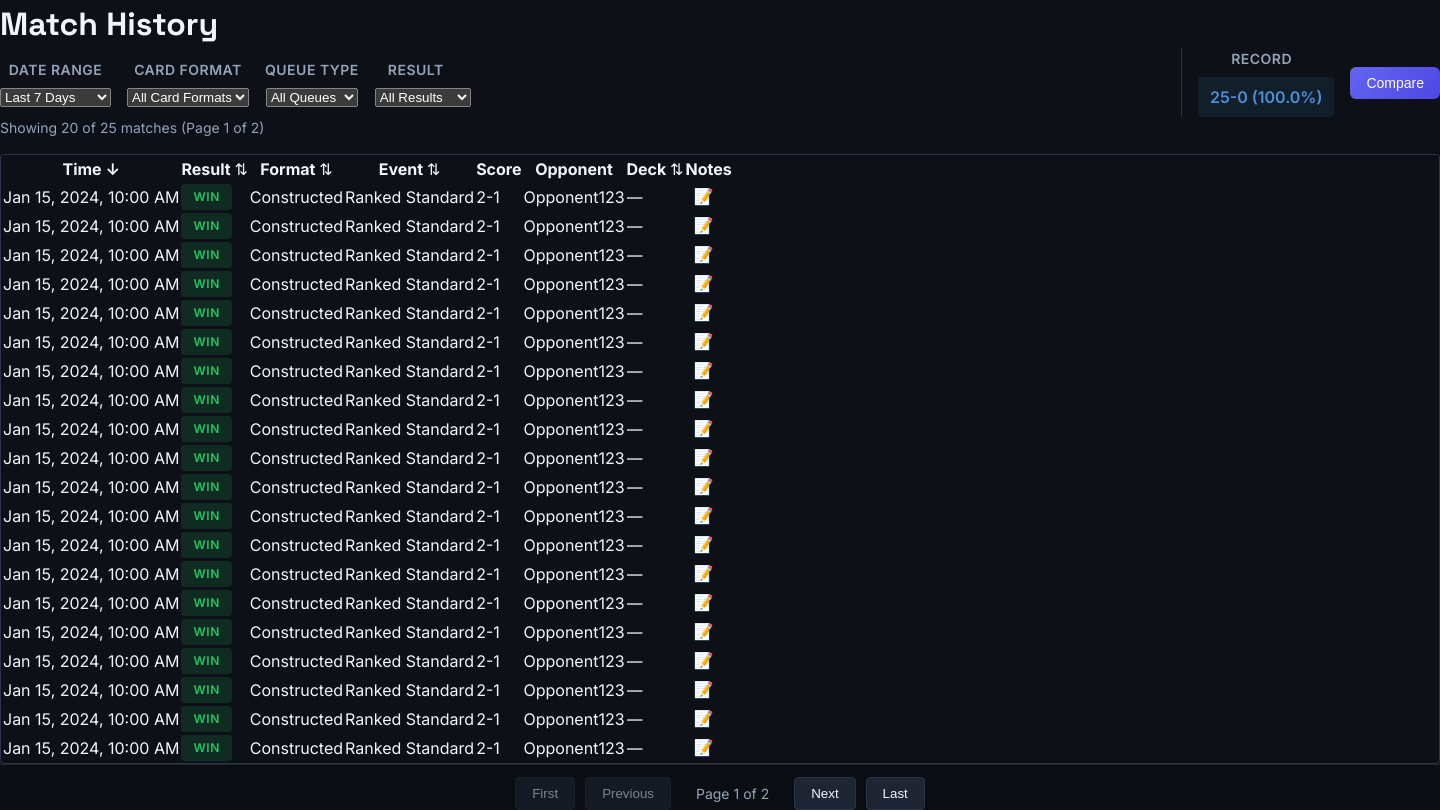
Test: MatchHistory › Sorting › should reset to page 1 when sorting changes
This screenshot has width=1440, height=810.
Expected: the text "Page 1 of 2" is shown, [696,785,769,802]
Note: Go to page 2
Click the button "Next" at (825, 794), box [794,777,856,809]
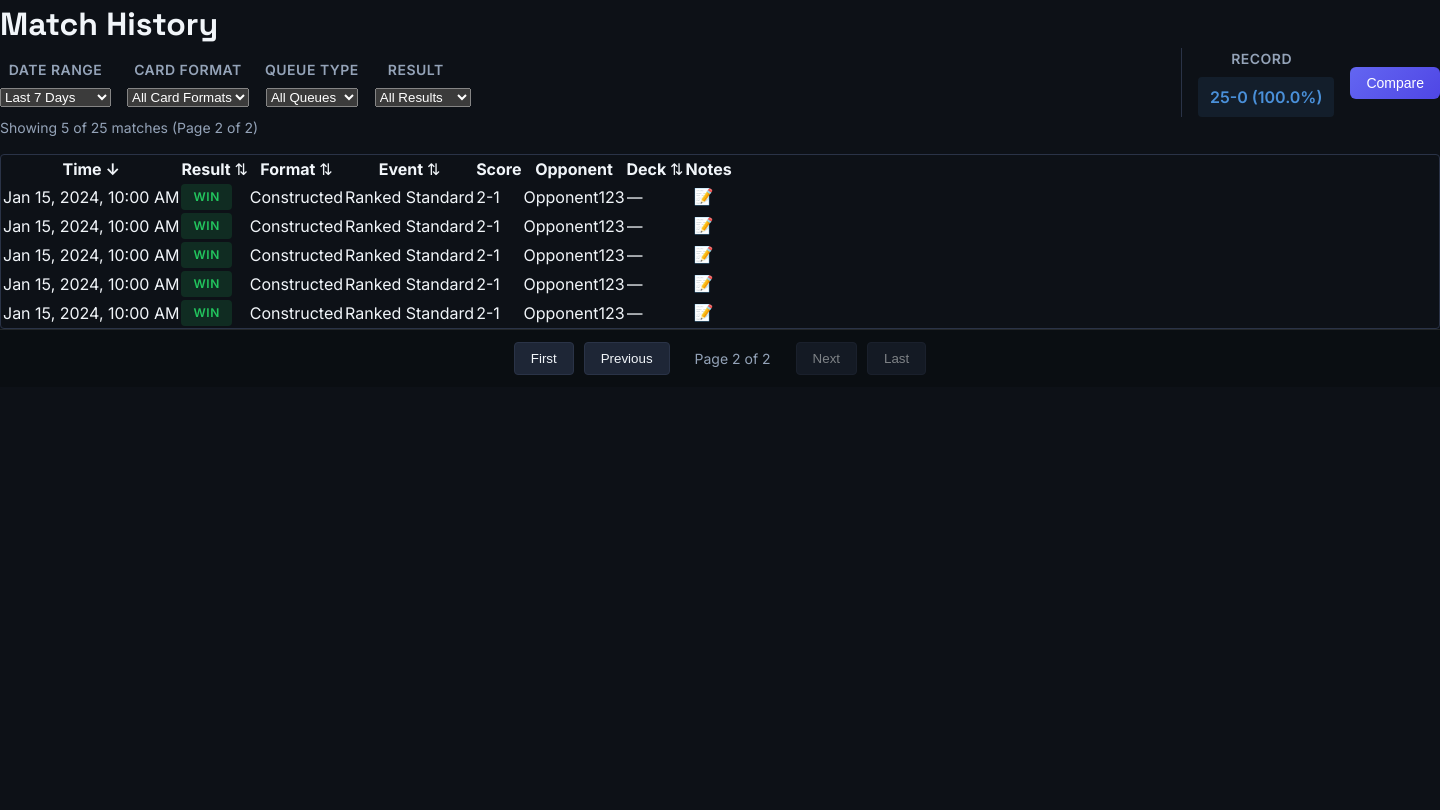
Expected: the text "Page 2 of 2" is shown, [695,350,771,367]
Note: Click sort header
Click the column heading "Result ⇅" at (215, 169), box [181,157,248,181]
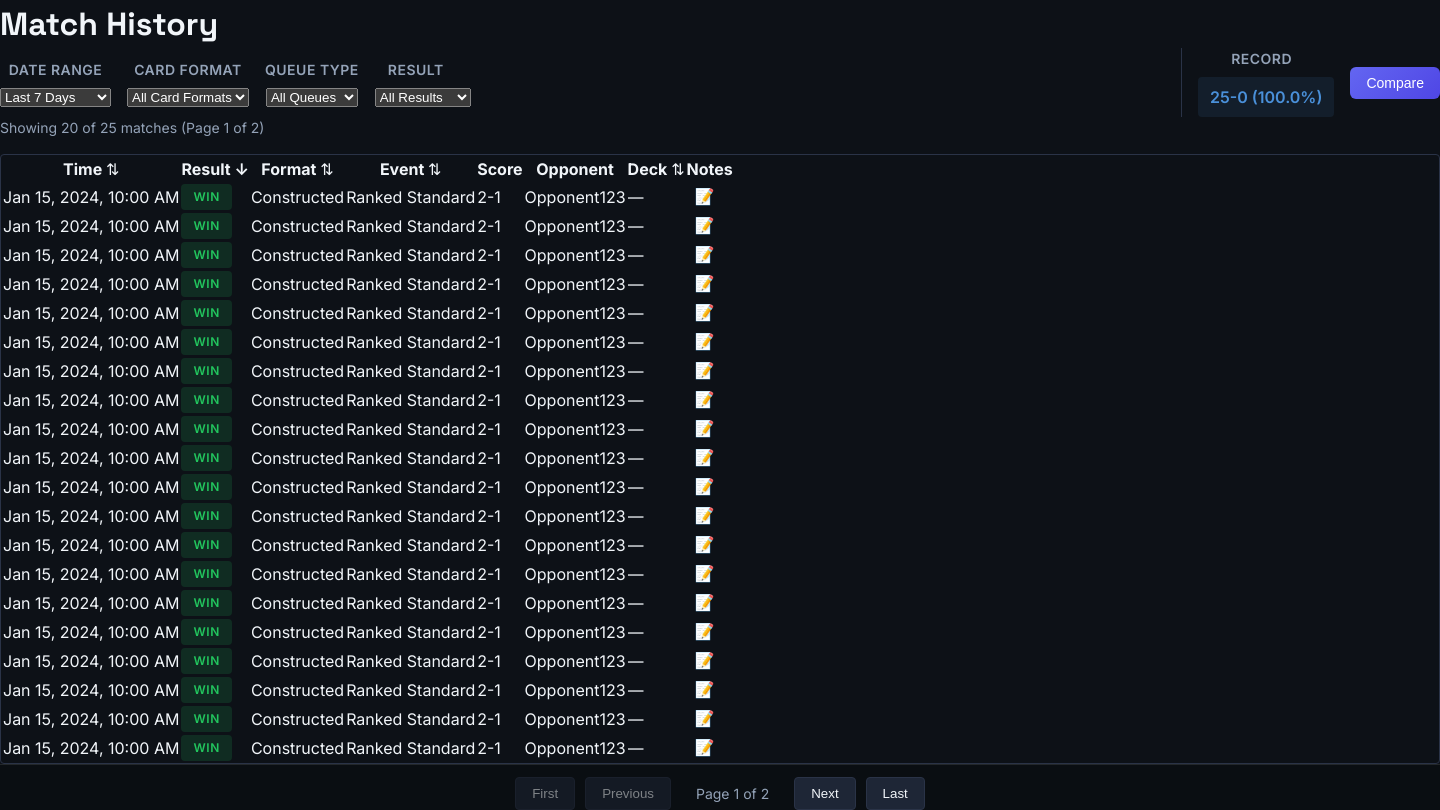
Expected: the text "Page 1 of 2" is shown, [696,785,769,802]
